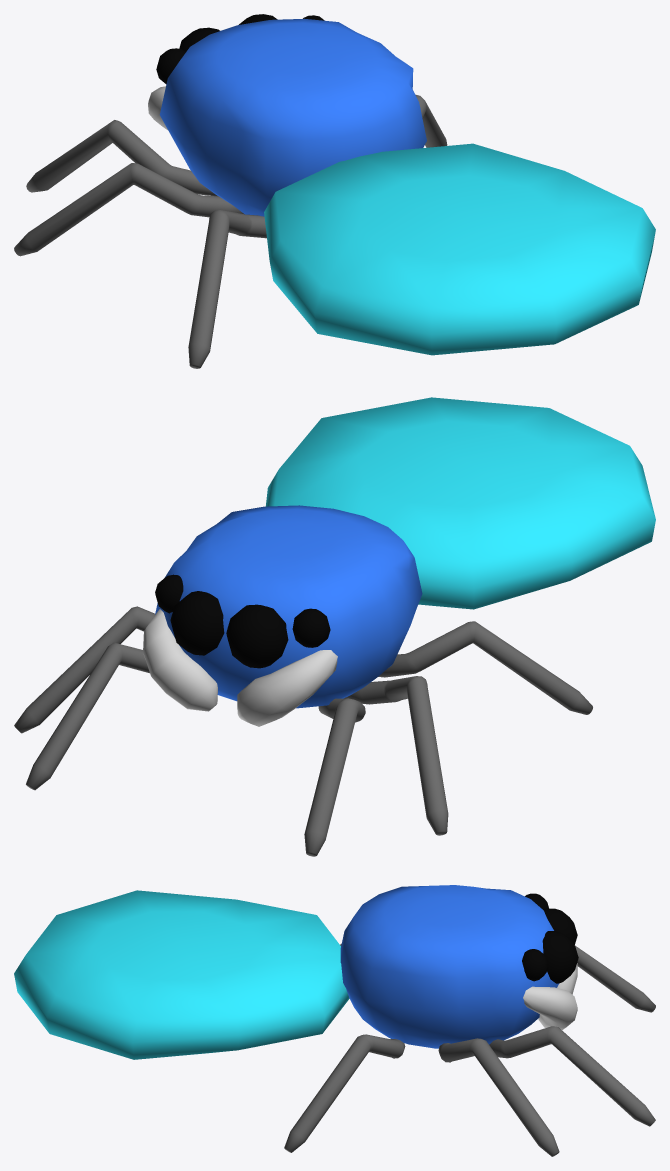
File: Spider52.glb
3 views of the same model, one above another, from view 1: azimuth 30°, elevation 25°; view 2: azimuth 150°, elevation 25°; view 3: azimuth 270°, elevation 25° (orthographic). The views are drawn at different scales.
Parts seen in each view (by area): view 1: Butt, Head, Leg.003, Leg.005, Leg.001, Leg.002, Eye.002; view 2: Butt, Head, Leg.005, Leg.003, Pincer.001, Pincer, Leg, Leg.001, Leg.002, Eye, Eye.001, Eye.002 (+1 smaller); view 3: Butt, Head, Leg, Leg.002, Leg.004, Pincer, Leg.001, Eye.001, Eye.003, Eye.
Part boxes in pixels (<box>): Butt: <box>264,143,655,355</box>; Head: <box>159,18,426,216</box>; Leg.003: <box>14,163,244,256</box>; Leg.005: <box>188,210,266,368</box>; Leg.001: <box>26,120,217,196</box>; Leg.002: <box>415,94,447,147</box>; Eye.002: <box>156,48,185,84</box>; Butt: <box>265,397,655,609</box>; Head: <box>155,505,422,708</box>; Leg.005: <box>378,621,592,714</box>; Leg.003: <box>343,676,448,835</box>; Pincer.001: <box>237,650,337,726</box>; Pincer: <box>143,609,217,711</box>; Leg: <box>26,642,149,790</box>; Leg.001: <box>304,698,365,856</box>; Leg.002: <box>14,606,154,733</box>; Eye: <box>226,604,288,668</box>; Eye.001: <box>170,591,224,655</box>; Eye.002: <box>292,608,330,647</box>; Butt: <box>14,890,349,1059</box>; Head: <box>340,885,559,1048</box>; Leg: <box>489,1026,655,1126</box>; Leg.002: <box>438,1038,559,1156</box>; Leg.004: <box>284,1034,405,1152</box>; Pincer: <box>523,986,577,1029</box>; Leg.001: <box>575,945,655,1012</box>; Eye.001: <box>542,931,578,983</box>; Eye.003: <box>522,949,548,981</box>; Eye: <box>543,908,577,944</box>.
Size of the model in its own units: 0.335 by 0.1467 by 0.521.
5 materials, 1 textured.
